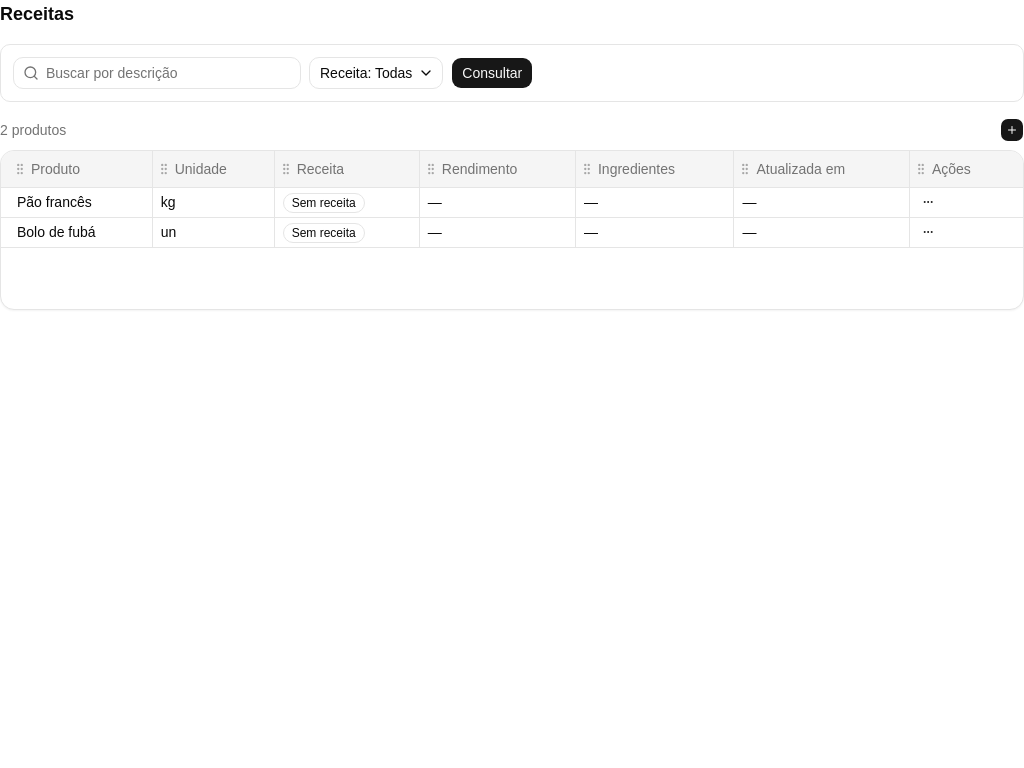
Test case: RecipesListPage › goes back to the recipe as it was when registering the ingredient is given up
This screenshot has width=1024, height=768.
Click the button named "Ações de Pão francês". click: click(928, 202)
box: [918,192,938,212]
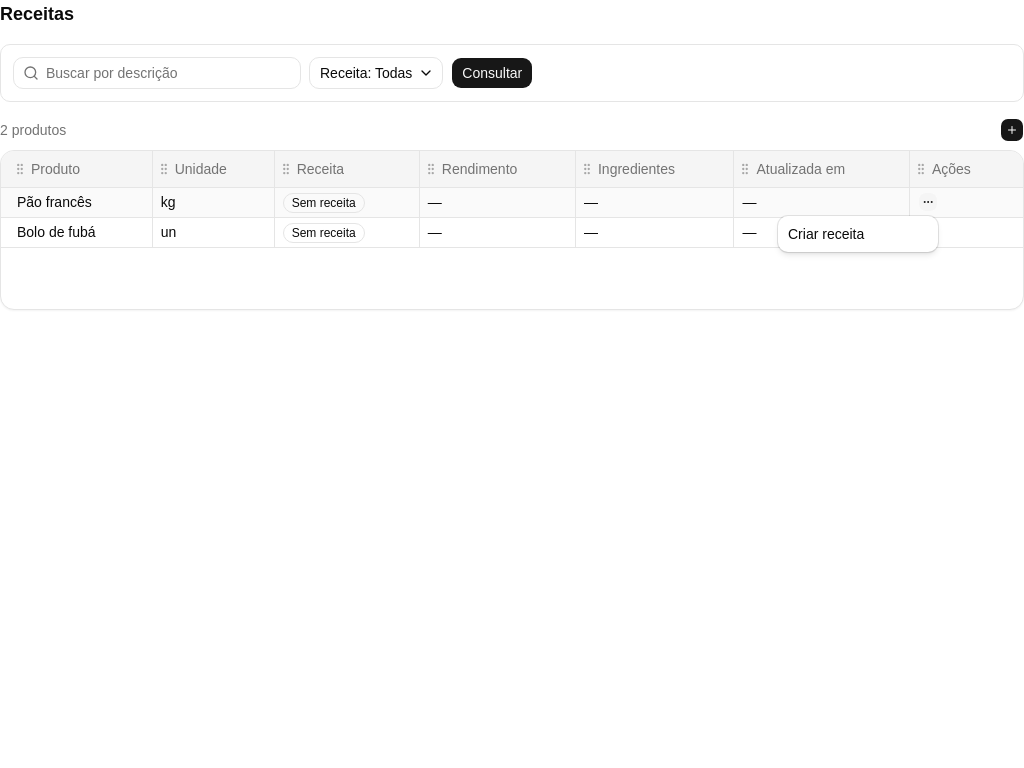
Click the menu item "Criar receita". click: click(826, 234)
box: [788,226,864,242]
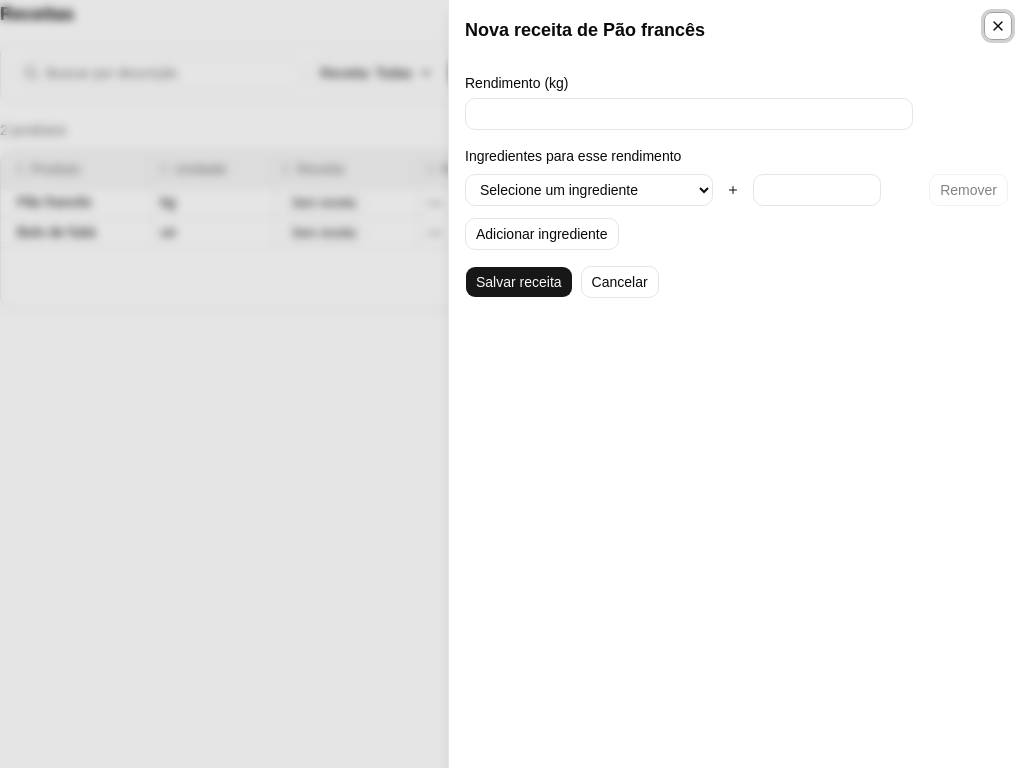
Type "10" into the field labelled "Rendimento (kg)". click: (689, 114)
box: [465,98,913,130]
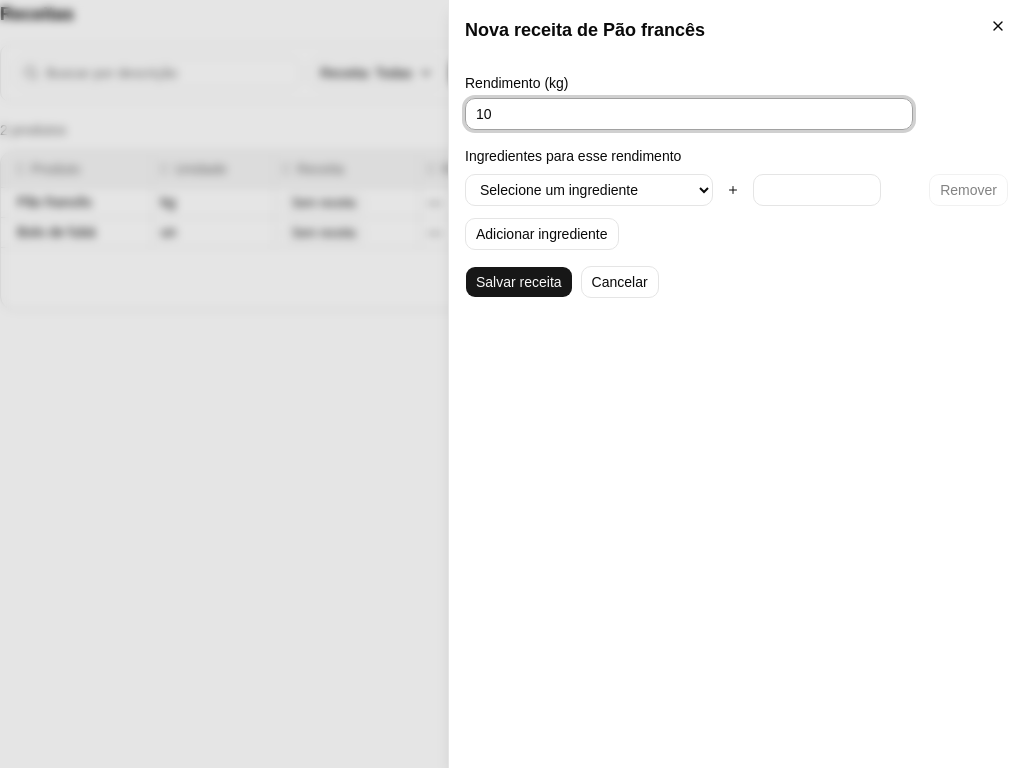
Click the button named "Cadastrar ingrediente na linha 1". click: click(733, 190)
box: [721,178,745,202]
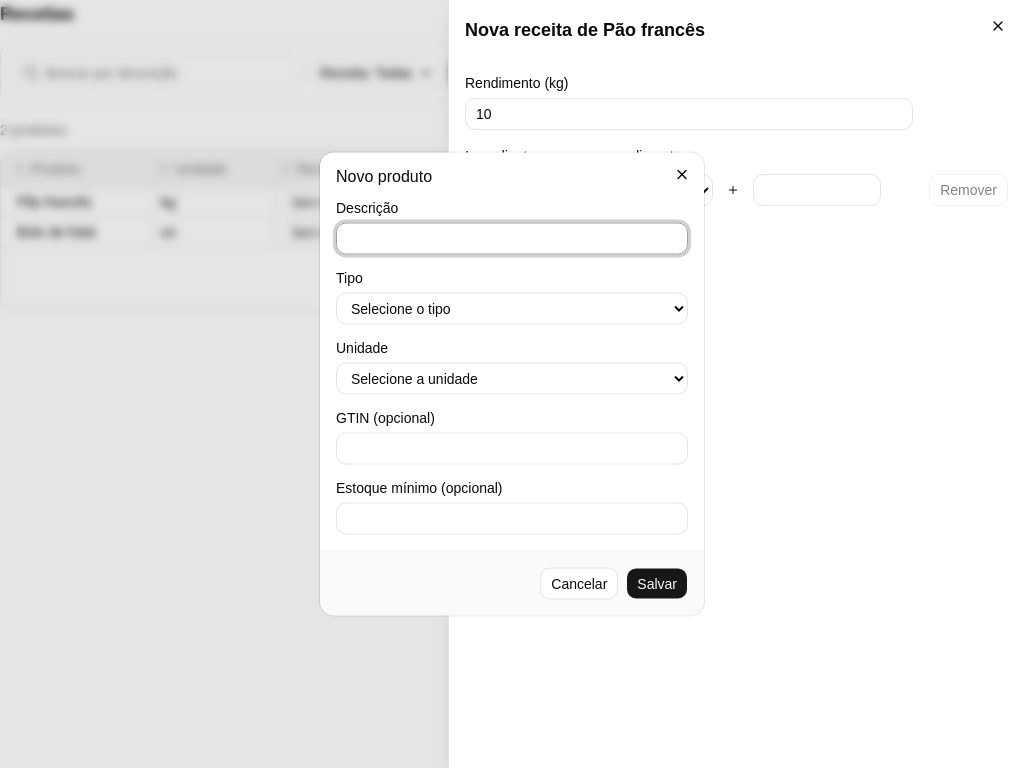
Click the button "Cancelar". click: click(579, 584)
box: [540,568,618,600]
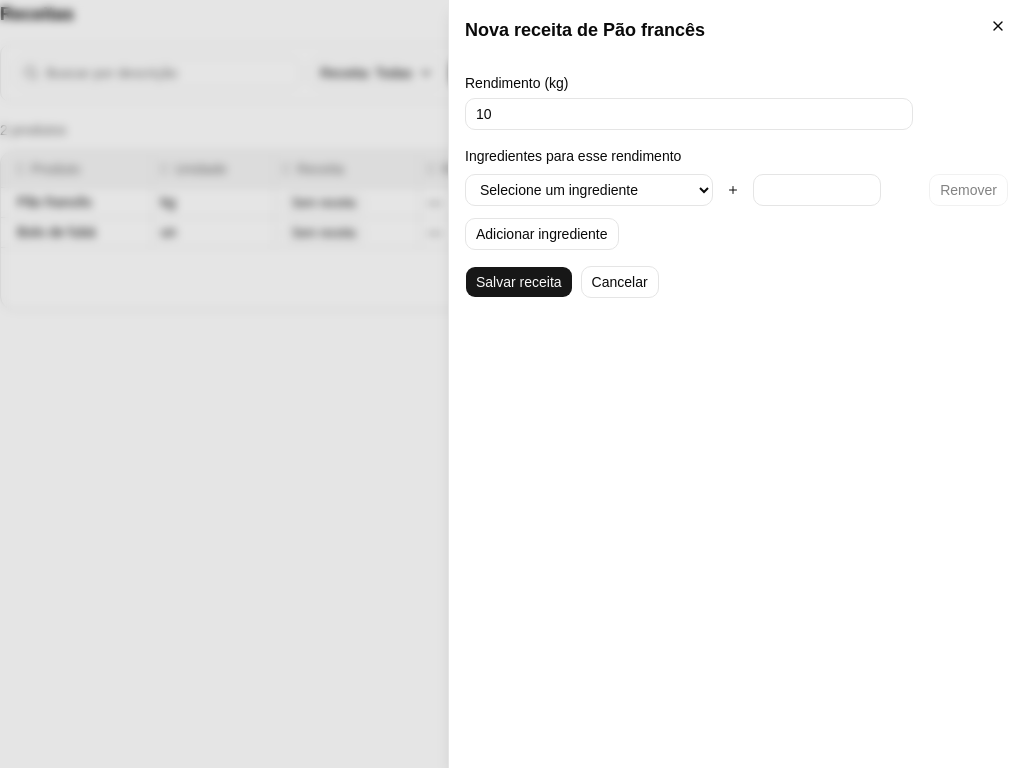
Result: the dropdown named "Ingrediente 1" shows "Selecione um ingrediente" at [465,174,713,206]
Result: the heading "Novo produto" is gone
